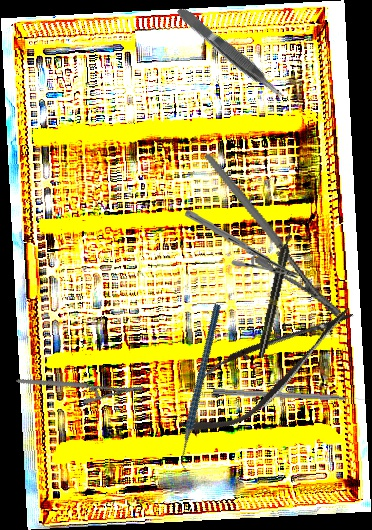Chopper: (129, 302, 275, 478)
Handpiece: (255, 229, 296, 359)
Hook Surgical: (212, 387, 371, 405)
Micro Scissor: (162, 284, 369, 452)
Needle Holder: (204, 128, 344, 342), (16, 340, 145, 429), (183, 209, 301, 280)
Tissue Forceps: (174, 2, 288, 104)
